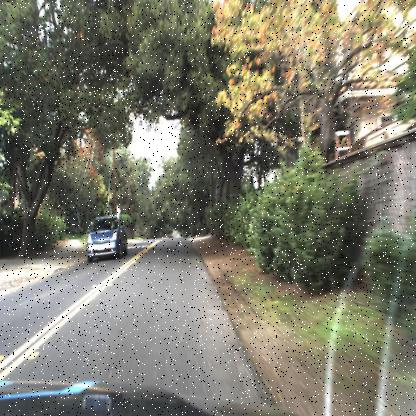car: (80, 214, 130, 265)
